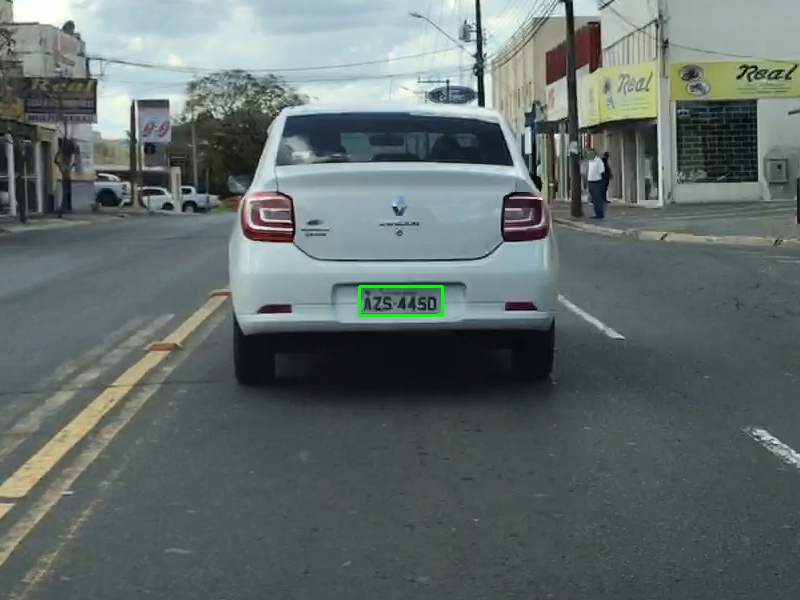placa: (359, 286, 442, 315)
